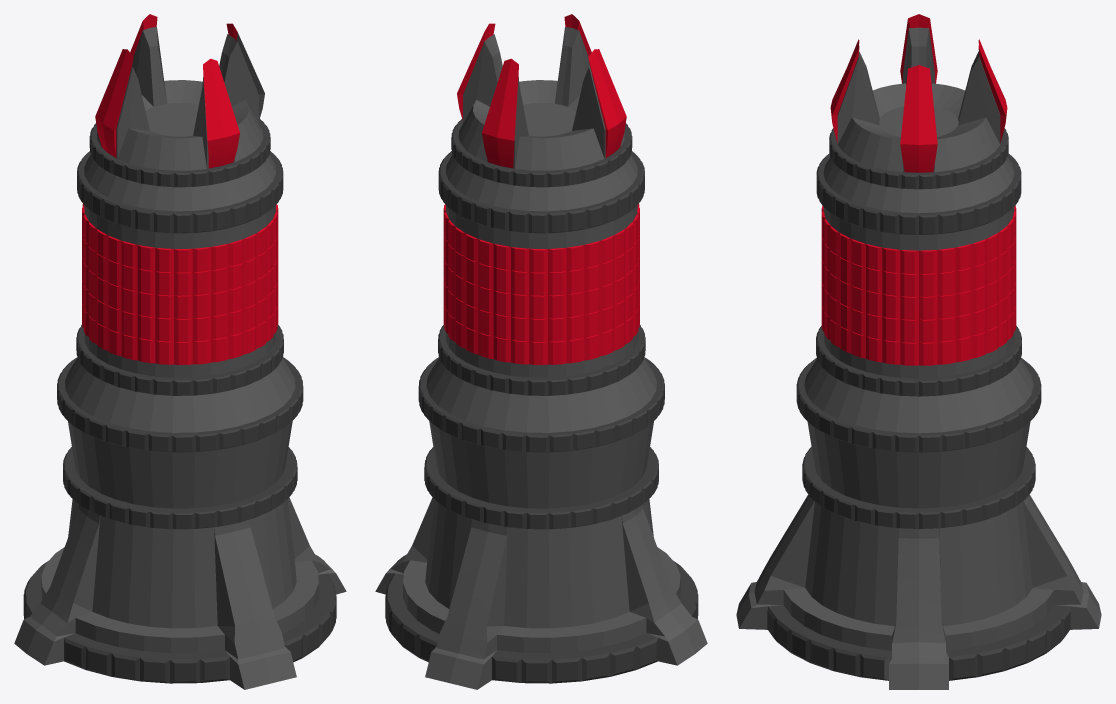
Rendered from BlockTowerScaled.fbx.
3 views of the same model, side by side, from view 1: azimuth 30°, elevation 25°; view 2: azimuth 150°, elevation 25°; view 3: azimuth 270°, elevation 25° (orthographic).
Visible parts, largest first — view 1: Cylinder.003; view 2: Cylinder.003; view 3: Cylinder.003.
Part boxes in pixels (x1,y1,x2,y2): Cylinder.003: [14, 14, 346, 689]; Cylinder.003: [375, 14, 707, 689]; Cylinder.003: [736, 14, 1101, 689].
Bounding box in the file's own units: 592 × 1070 × 613.
